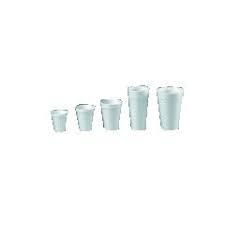Plastic cup: (38, 76, 198, 136)
